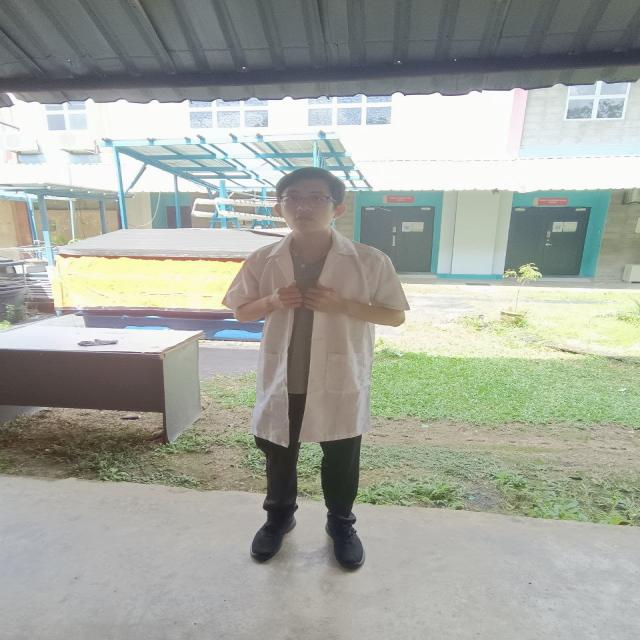person_with_labcoat: (223, 168, 409, 568)
